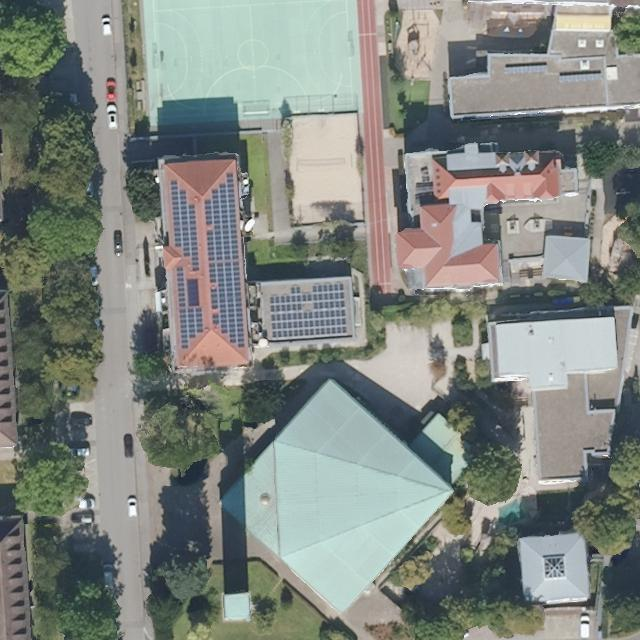PV: (200, 162, 247, 356), (266, 279, 351, 340), (169, 177, 201, 275), (175, 265, 207, 357), (500, 63, 550, 76), (557, 71, 603, 84)
